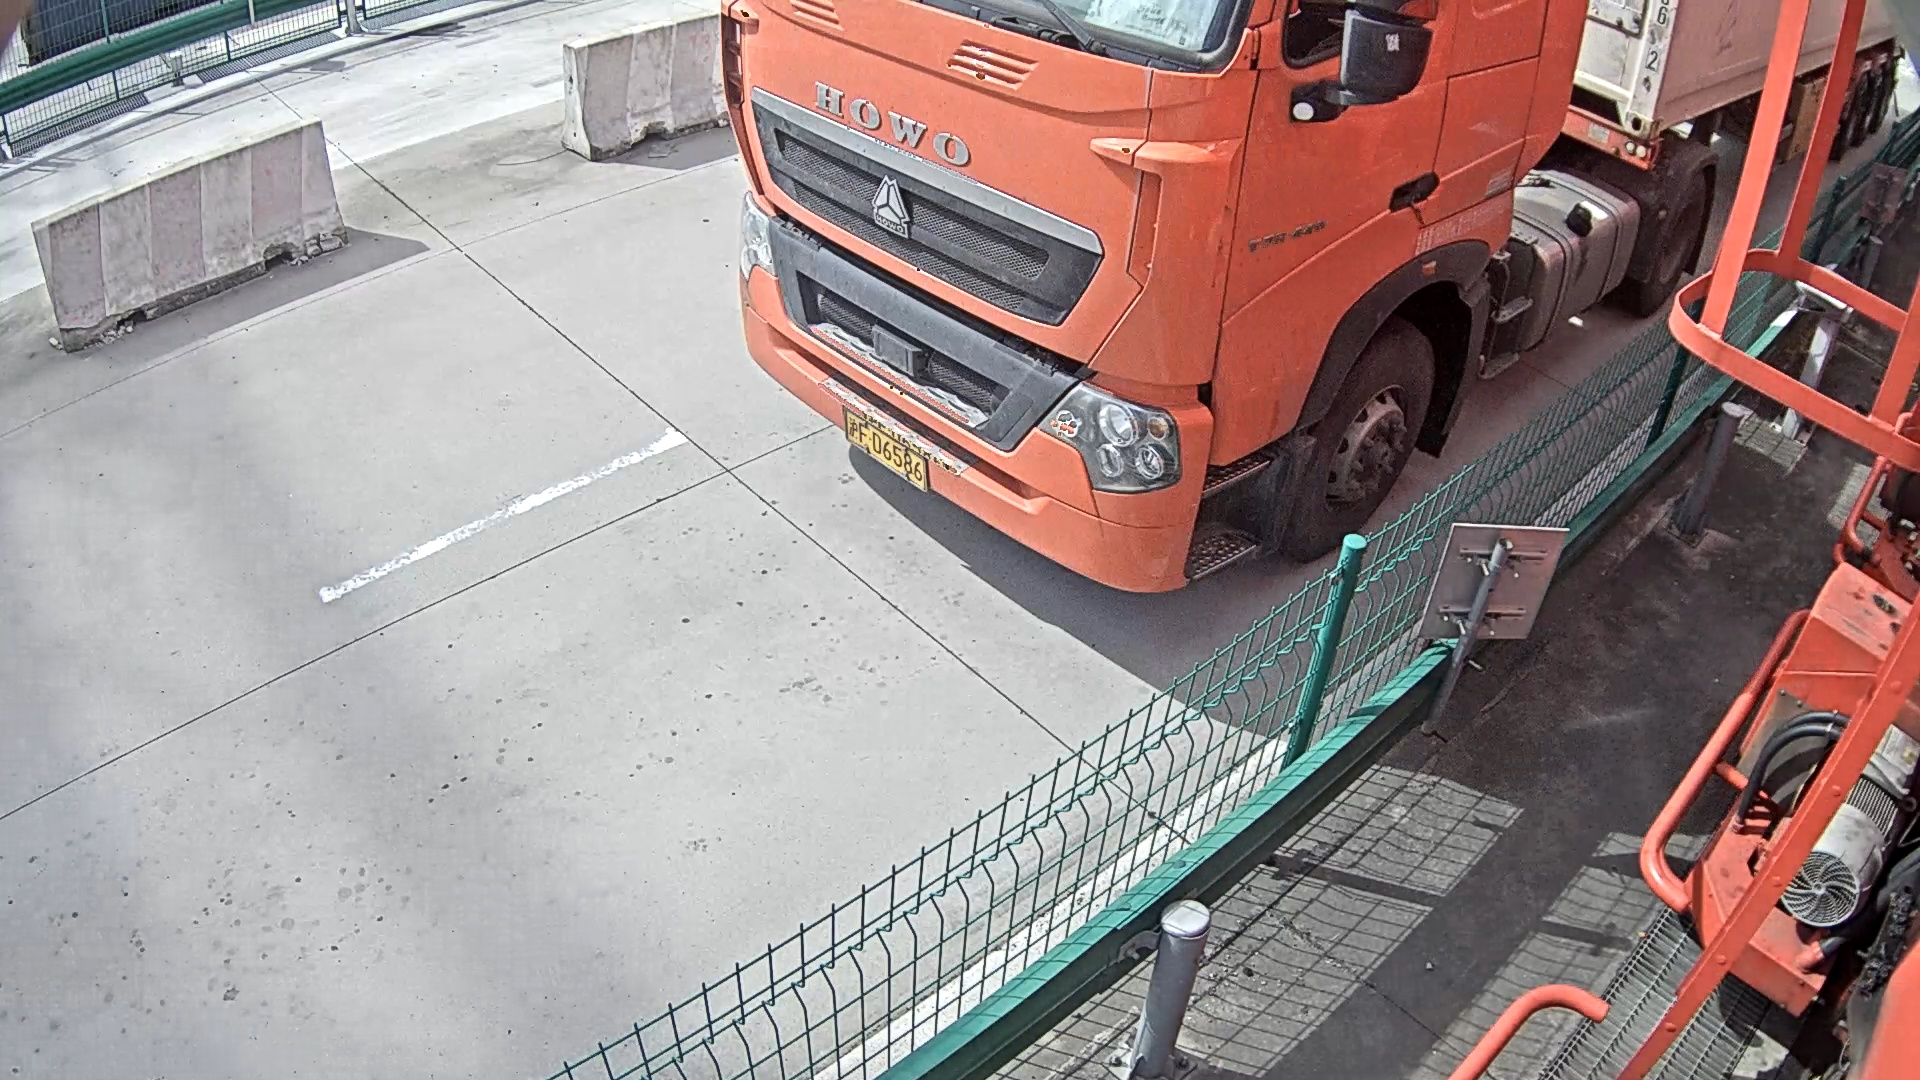head: (720, 1, 1594, 593)
plate: (841, 414, 926, 494)
